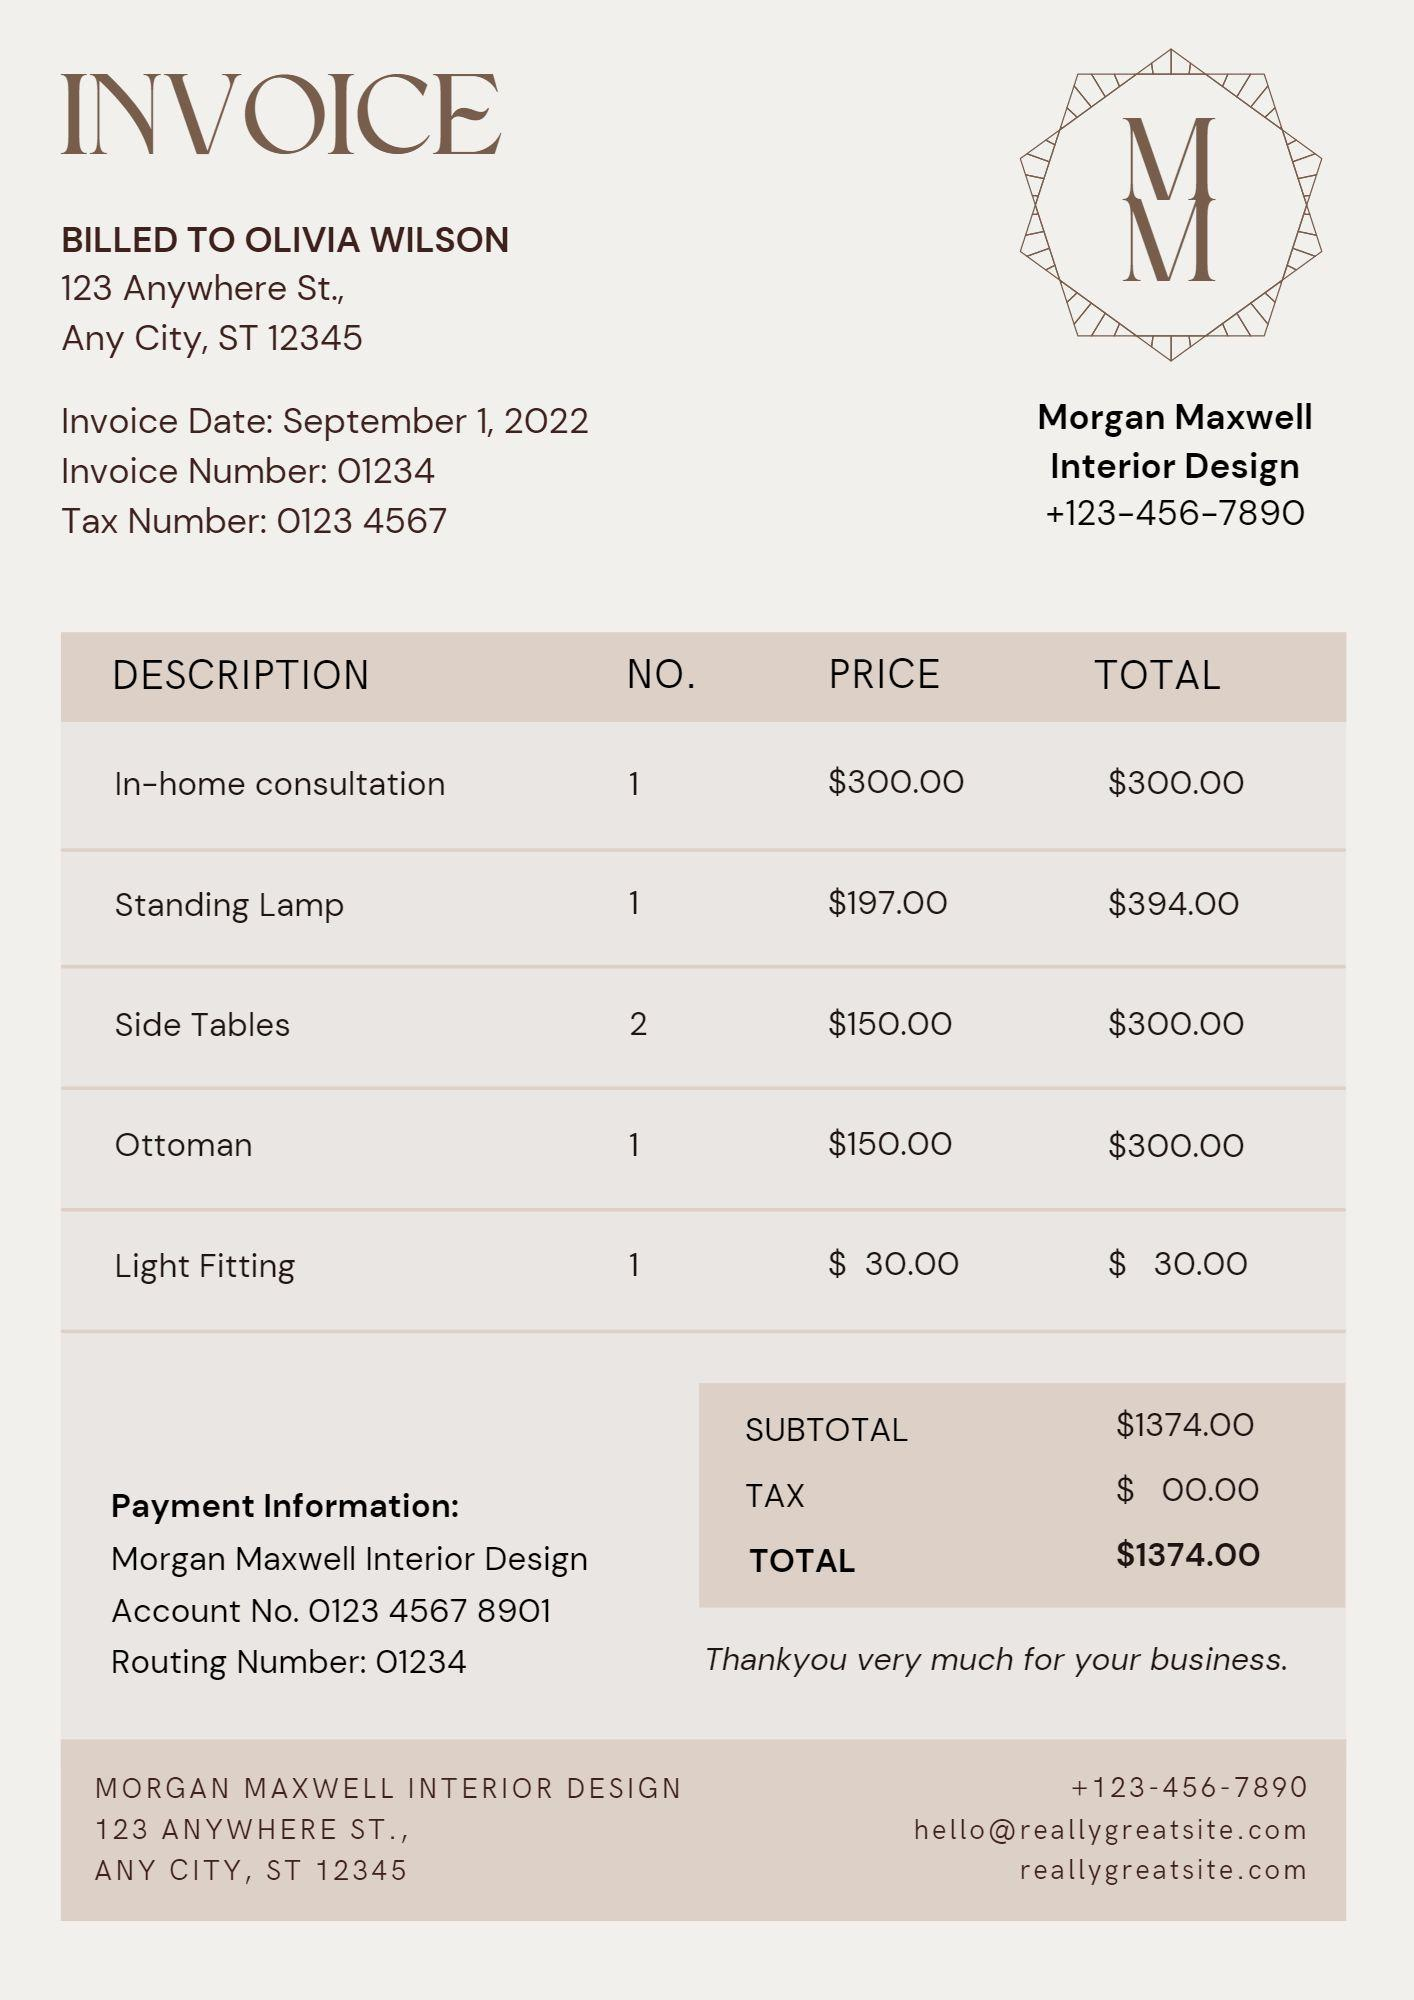ROI: (54, 621, 1352, 1343)
